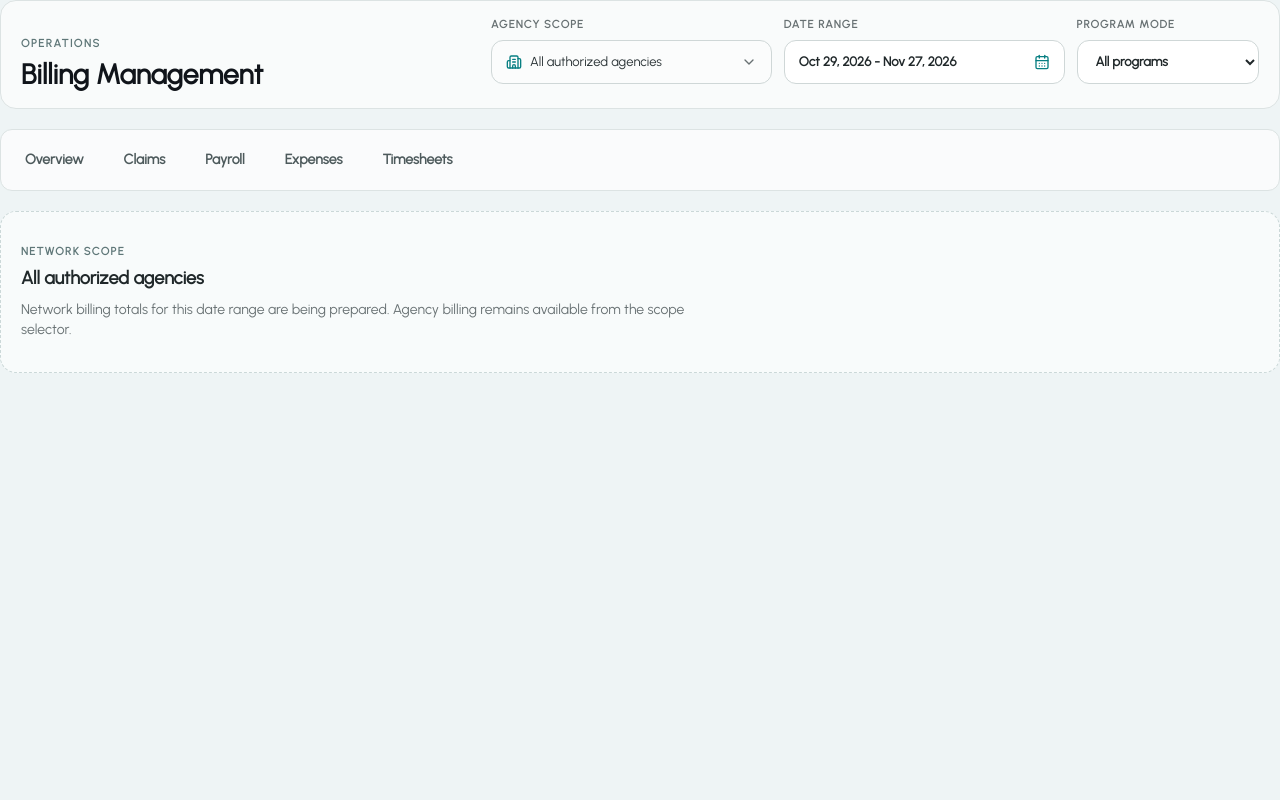
Test: SuperAdminBillingWorkspace › selects only API-provided agencies and preserves agencyId in the nested overview URL
Click the button with aria-label "Select an agency, all authorized agencies" at (631, 62), box [491, 40, 772, 84]
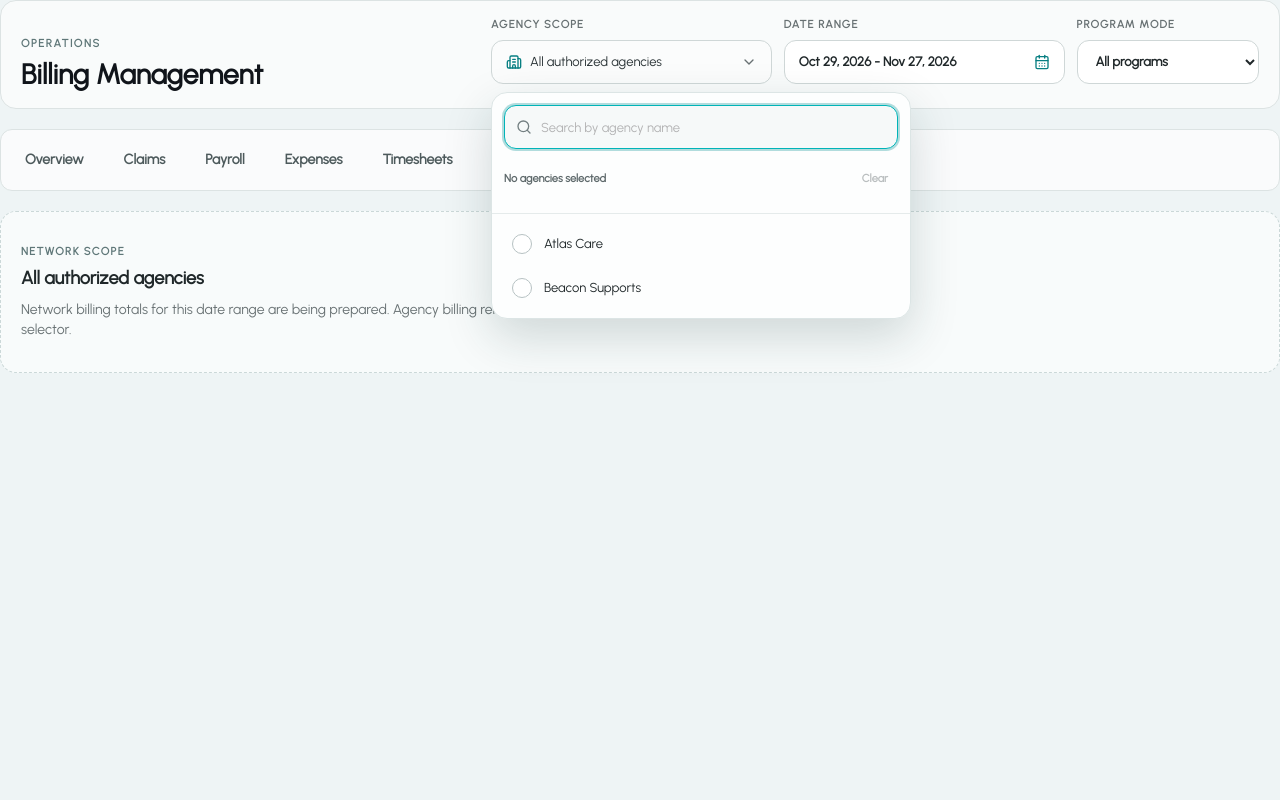
Click the option "Beacon Supports" at (593, 288), box [500, 266, 902, 310]
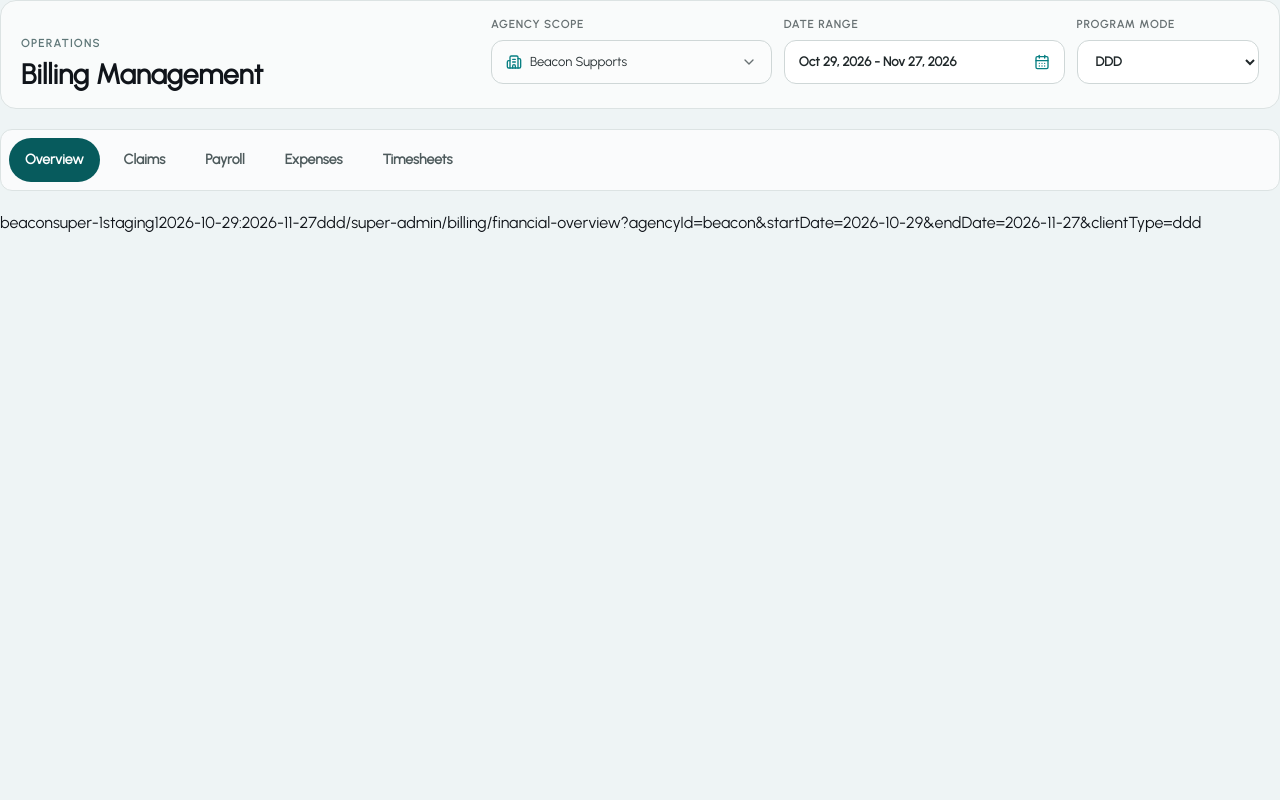
Expected: the text named "Billing workspace scope" reads "beacon", [0, 212, 53, 232]
Expected: the text named "Billing location" shows "/super-admin/billing/financial-overview?agencyId=beacon", [346, 212, 1201, 232]
